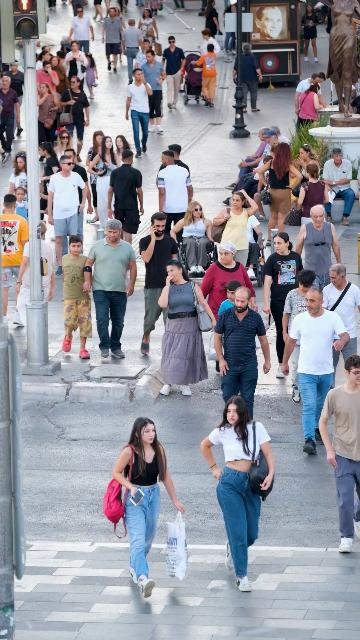person: (200, 396, 276, 592), (112, 417, 186, 599), (280, 288, 350, 455), (318, 354, 360, 553), (157, 259, 217, 397), (213, 286, 272, 422), (82, 218, 138, 359), (262, 232, 304, 379), (281, 269, 326, 404), (139, 212, 179, 356), (46, 155, 89, 277), (322, 263, 360, 387), (259, 142, 303, 247), (200, 241, 259, 317), (14, 221, 56, 327), (295, 204, 342, 292), (0, 194, 31, 324), (61, 235, 93, 359), (211, 189, 259, 268), (107, 149, 145, 244), (156, 150, 194, 245), (170, 201, 215, 273), (225, 130, 279, 190), (86, 136, 119, 232), (60, 75, 91, 163), (223, 154, 273, 208), (294, 163, 332, 233), (125, 68, 153, 158), (323, 147, 355, 225), (64, 149, 94, 225), (232, 43, 263, 113), (142, 49, 167, 134), (0, 76, 21, 164), (290, 144, 321, 203), (255, 144, 278, 221), (162, 35, 185, 109), (190, 44, 217, 107), (3, 58, 24, 136), (86, 131, 104, 221), (101, 9, 126, 73), (36, 83, 61, 146), (297, 82, 326, 133), (122, 17, 143, 86), (294, 72, 326, 115), (68, 8, 94, 54), (240, 128, 269, 167), (38, 141, 61, 190), (302, 3, 320, 63), (7, 151, 30, 197), (63, 40, 86, 86), (217, 279, 240, 319), (138, 8, 159, 51), (36, 61, 60, 98), (50, 56, 71, 97), (204, 0, 222, 46), (197, 28, 223, 57), (52, 130, 74, 164), (134, 39, 157, 70), (83, 52, 98, 98), (114, 135, 134, 169), (169, 144, 190, 173), (13, 186, 28, 226), (39, 184, 55, 220), (56, 51, 68, 67), (357, 165, 360, 186)
